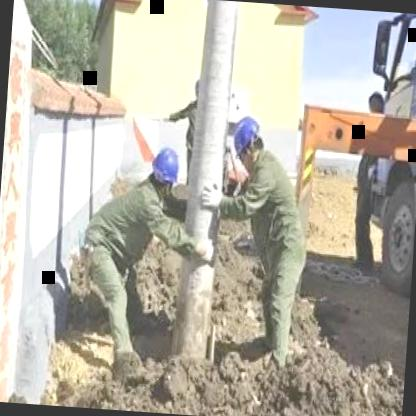helmet: (230, 110, 268, 176), (148, 145, 184, 199)
